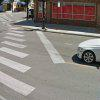Crosswalk: (5, 15, 28, 96)
